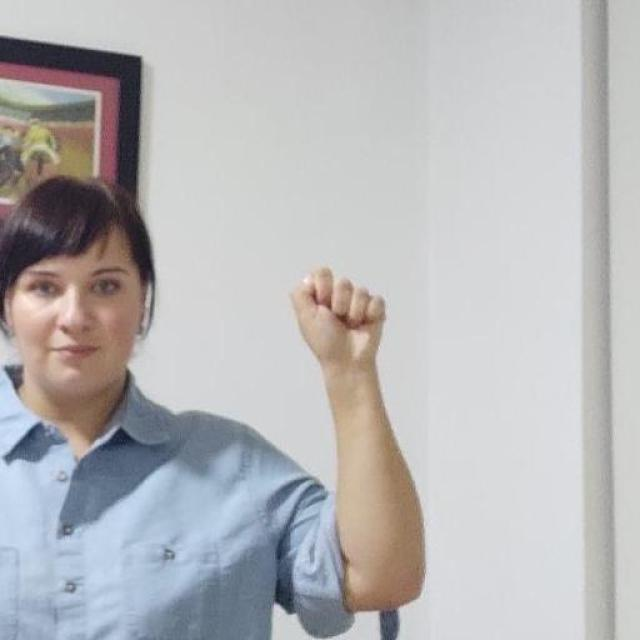hand: (289, 265, 386, 370)
